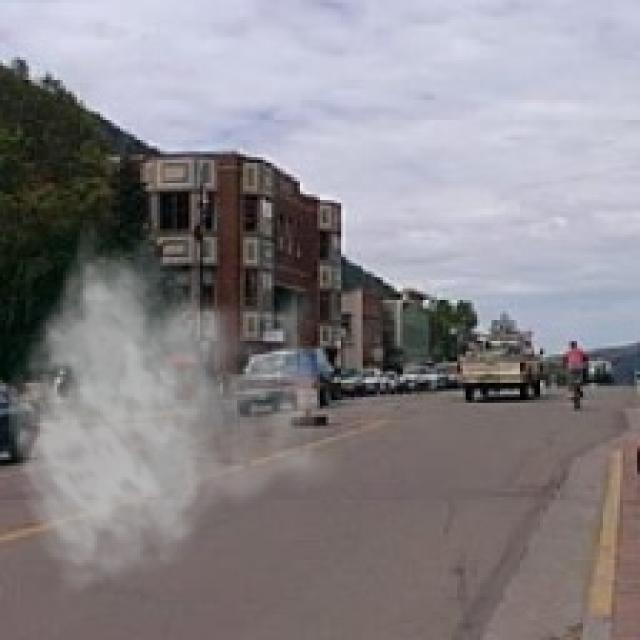smoke: (6, 220, 348, 594)
